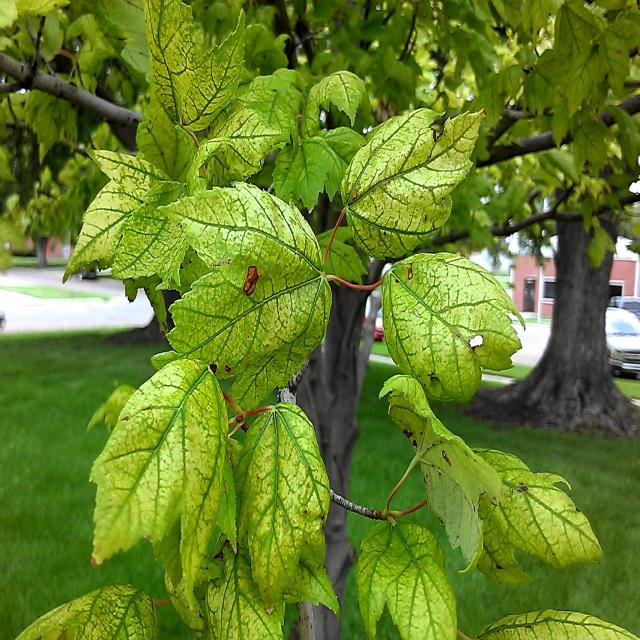Chlorosis: (121, 74, 479, 605)
